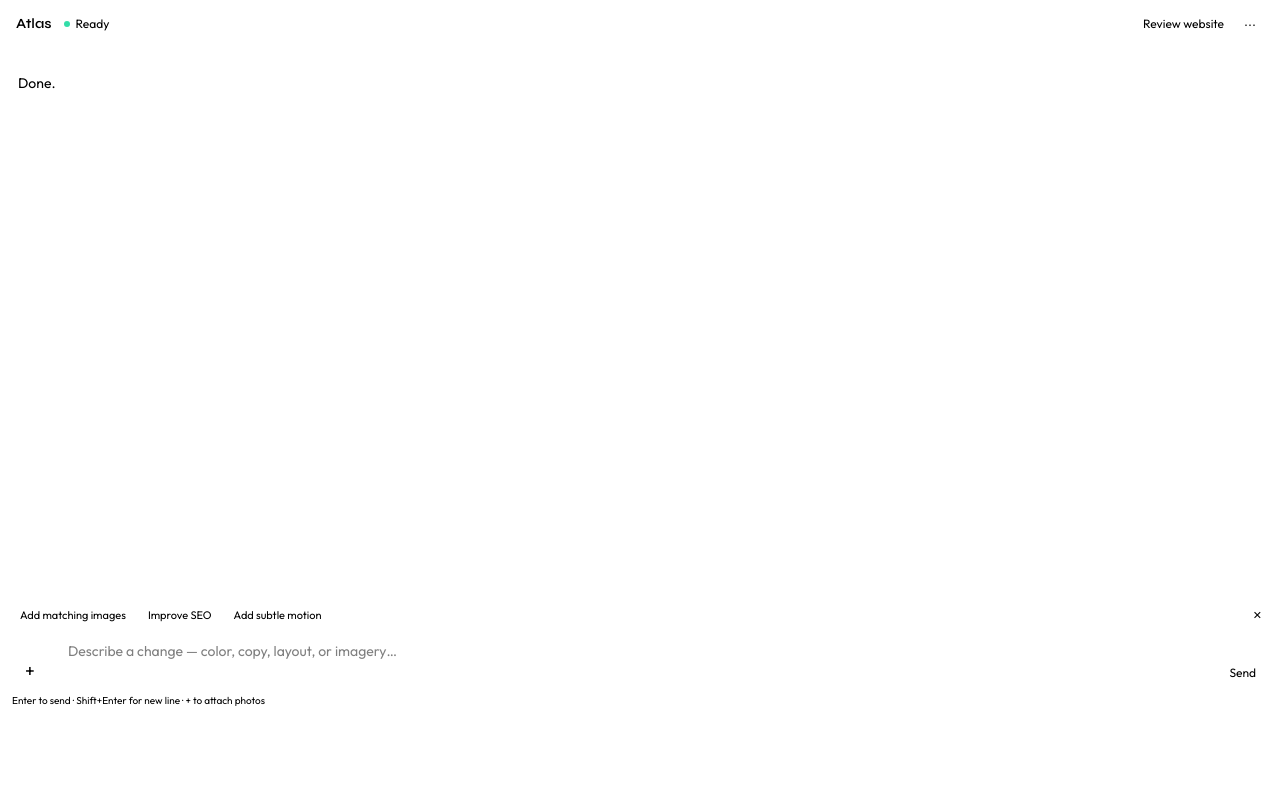
Sprint 28.4 — panel information architecture › caps follow-up suggestions at three and hides them while typing
Type "typing now" into the text box with test id "atlas-prompt-input" at (633, 661), box x1=56 y1=633 x2=1209 y2=689
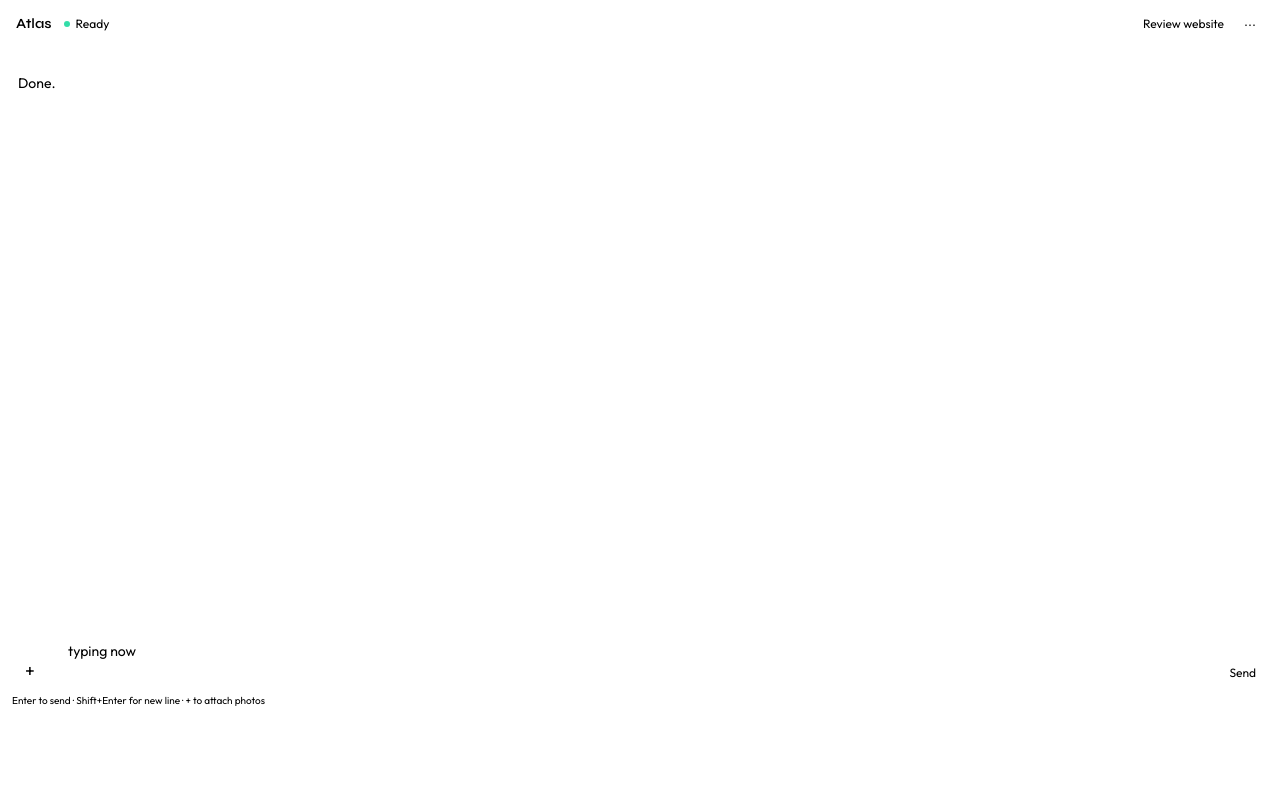
Result: the element with test id "atlas-follow-up-suggestions" is gone
